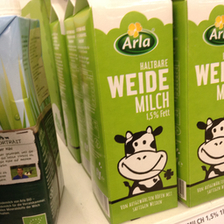milk: (75, 1, 182, 223)
